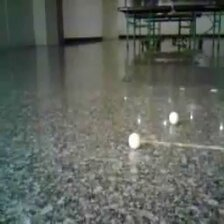w: (128, 132, 140, 150), (168, 111, 179, 124)
